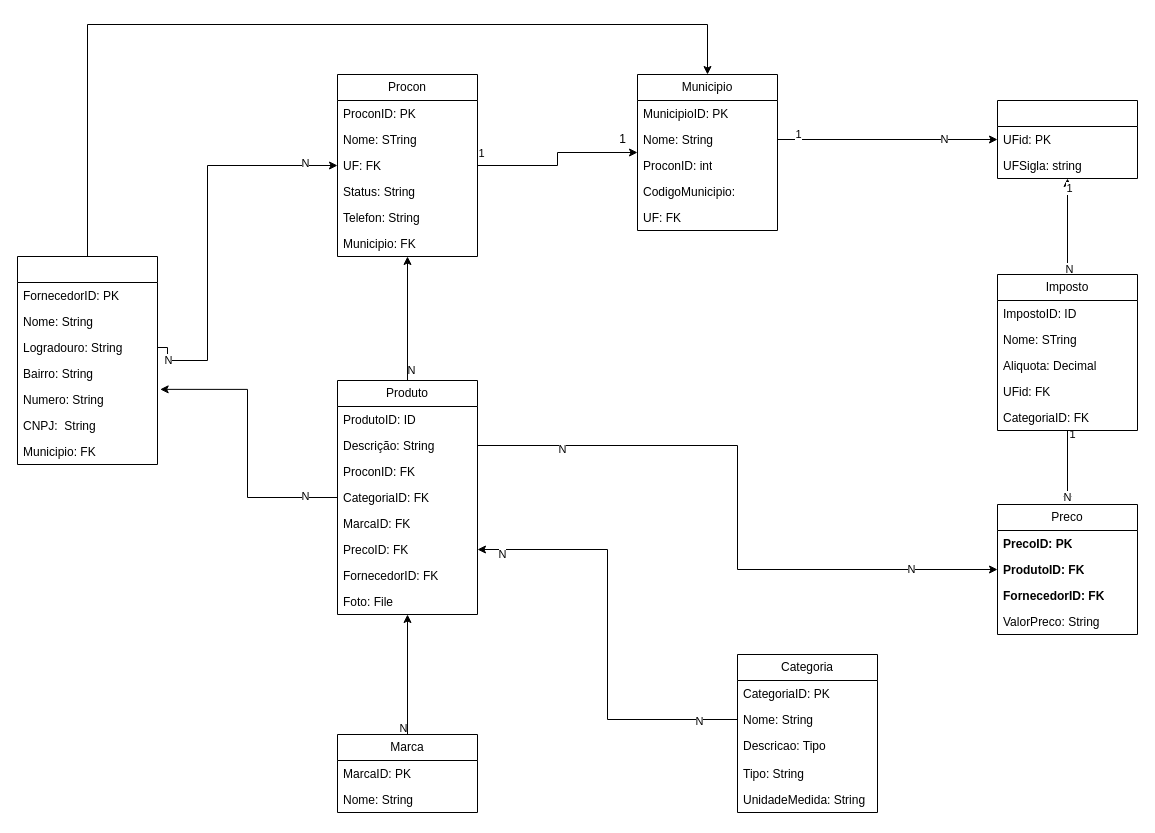
The diagram is 1155 pixels wide and 833 high, and some of its shapes have lost their labels. Here are the shapes that lost their labels. From the top down, the box of each, then its label:
(996, 100, 1138, 178): UF
(16, 256, 158, 464): EMPRESA
